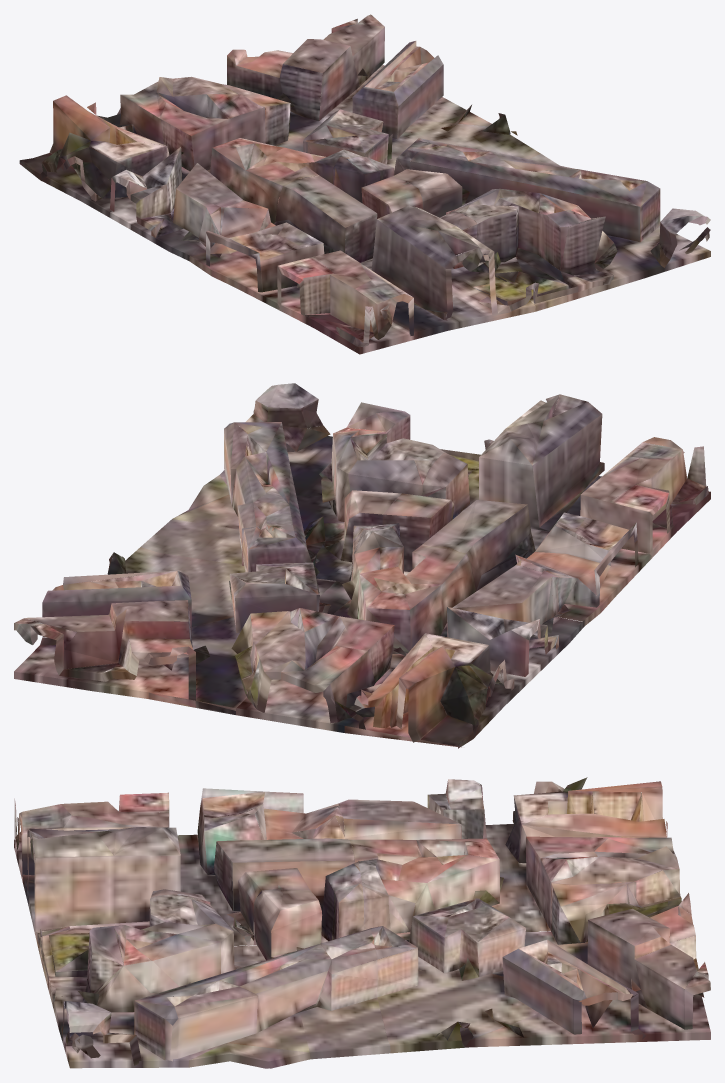
3 views of the same model, one above another, from view 1: azimuth 30°, elevation 25°; view 2: azimuth 150°, elevation 25°; view 3: azimuth 270°, elevation 25° (orthographic). The views are drawn at different scales.
Parts seen in each view (by area): view 1: Mesh_0; view 2: Mesh_0; view 3: Mesh_0.
Boxes of the visible parts, x1,y1,x2,y2 form: Mesh_0: (19,14,710,354); Mesh_0: (14,383,710,748); Mesh_0: (14,777,710,1068).
Bounding box in the file's own units: 270 × 55.59 × 329.
Materials: 2 (2 with a texture image).
